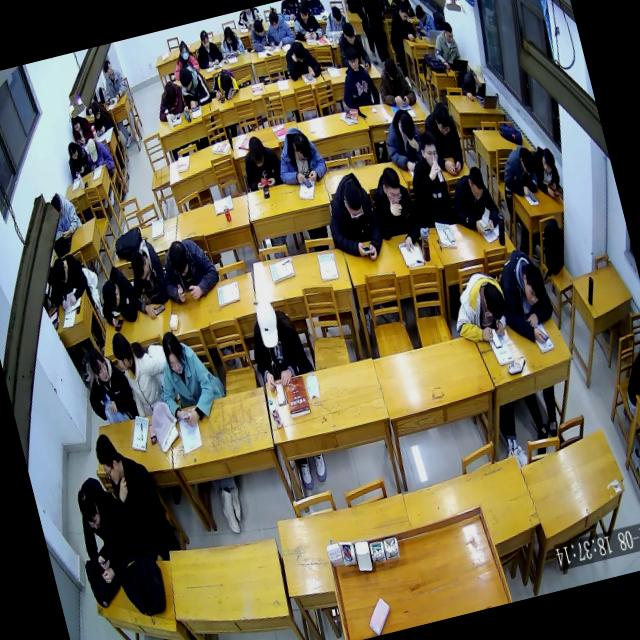bow: (489, 242, 563, 350), (444, 266, 514, 345), (90, 261, 144, 336), (235, 128, 286, 194), (492, 142, 542, 202), (47, 248, 91, 310), (528, 142, 566, 202), (172, 59, 212, 112), (280, 34, 323, 82), (150, 76, 188, 123), (206, 64, 241, 104), (318, 2, 352, 42), (244, 16, 270, 54)
down: (250, 293, 284, 350), (516, 258, 550, 308), (73, 484, 105, 534), (478, 278, 509, 326), (377, 162, 407, 210), (164, 237, 193, 283), (338, 178, 367, 222), (430, 99, 456, 139), (126, 247, 152, 286), (98, 276, 124, 314), (464, 164, 488, 202), (245, 132, 269, 168), (290, 129, 314, 164), (396, 110, 419, 144), (516, 143, 538, 177), (382, 54, 402, 86), (51, 256, 71, 286), (538, 145, 558, 175), (48, 192, 67, 221), (162, 82, 182, 109), (176, 65, 196, 92), (84, 136, 102, 164), (340, 20, 358, 48), (469, 62, 486, 90), (217, 69, 234, 94), (440, 20, 456, 46), (295, 0, 311, 24), (266, 9, 282, 32), (412, 2, 428, 24), (329, 4, 344, 26), (198, 28, 212, 51), (65, 140, 80, 161), (396, 1, 411, 22), (222, 24, 236, 46), (68, 112, 82, 132), (89, 100, 102, 120)
lookup: (158, 328, 188, 377), (416, 127, 442, 170), (342, 46, 363, 76), (177, 41, 191, 62)
sit: (90, 420, 184, 572), (146, 319, 227, 432), (67, 468, 142, 590), (238, 287, 316, 393), (316, 166, 389, 268), (108, 322, 172, 428), (396, 126, 458, 232), (76, 338, 140, 432), (152, 226, 222, 308), (365, 160, 425, 254), (120, 234, 177, 324), (444, 162, 504, 241), (268, 120, 330, 194), (417, 96, 468, 178), (377, 102, 429, 176), (330, 41, 380, 111), (371, 51, 419, 115), (332, 16, 373, 76), (46, 186, 86, 242), (90, 429, 126, 490), (427, 18, 463, 72), (615, 339, 640, 414), (94, 55, 130, 105), (260, 5, 297, 52), (381, 0, 418, 47), (286, 0, 324, 44), (189, 25, 225, 71), (166, 36, 202, 80), (82, 134, 116, 178), (456, 63, 490, 104), (63, 138, 93, 182), (215, 23, 248, 61), (86, 97, 115, 137), (67, 109, 96, 148), (410, 1, 438, 40), (389, 0, 415, 20)
